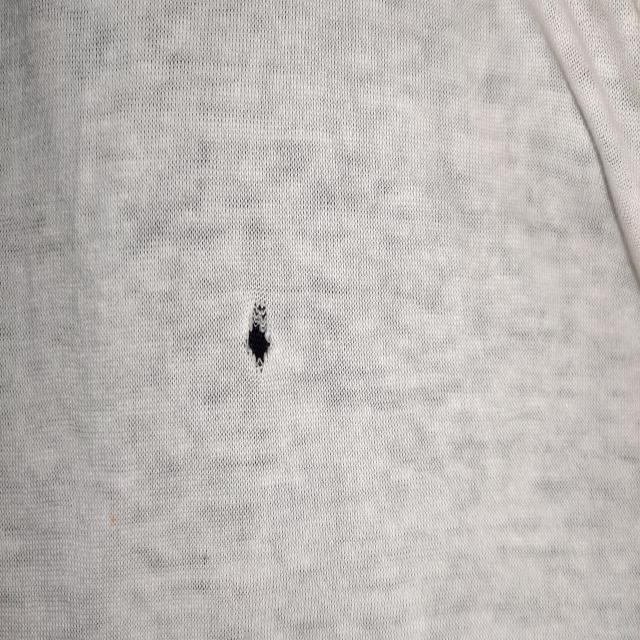Hole: (247, 301, 270, 369)
